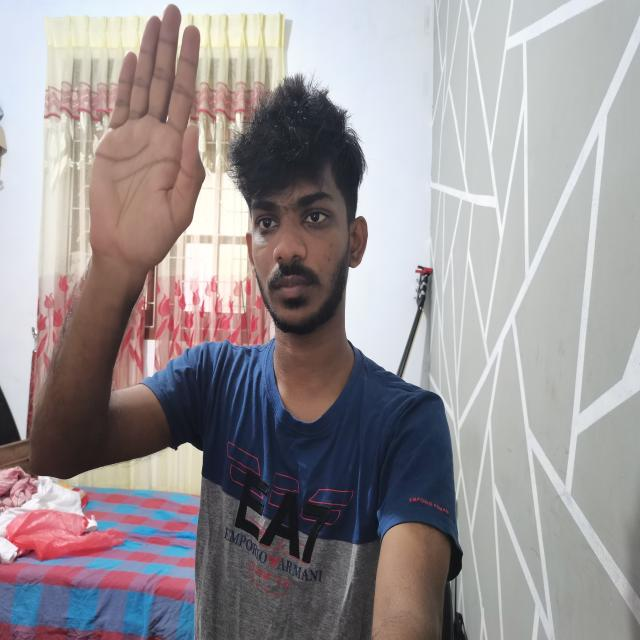Hello: (84, 4, 219, 268)
